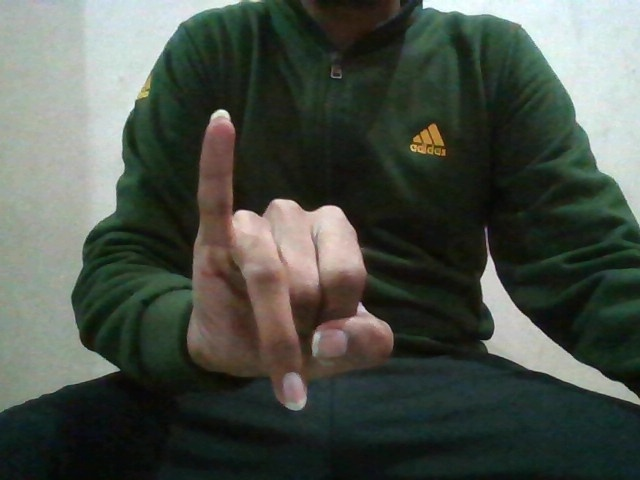I: (182, 100, 407, 415)
